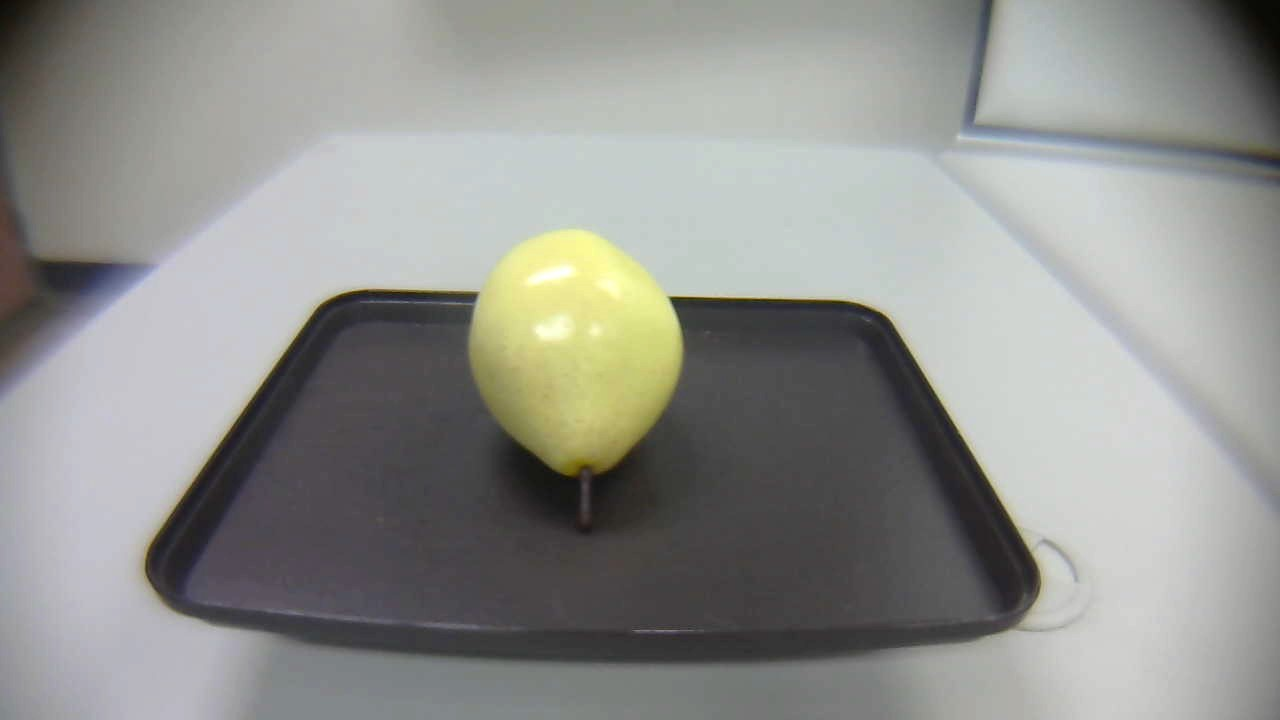western pear: (465, 227, 702, 538)
